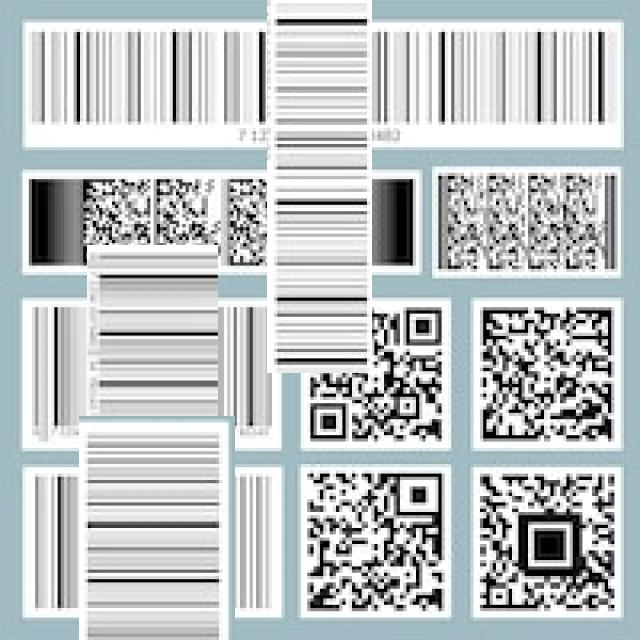Barkod: (145, 0, 492, 252), (52, 441, 261, 640), (56, 276, 249, 469)
